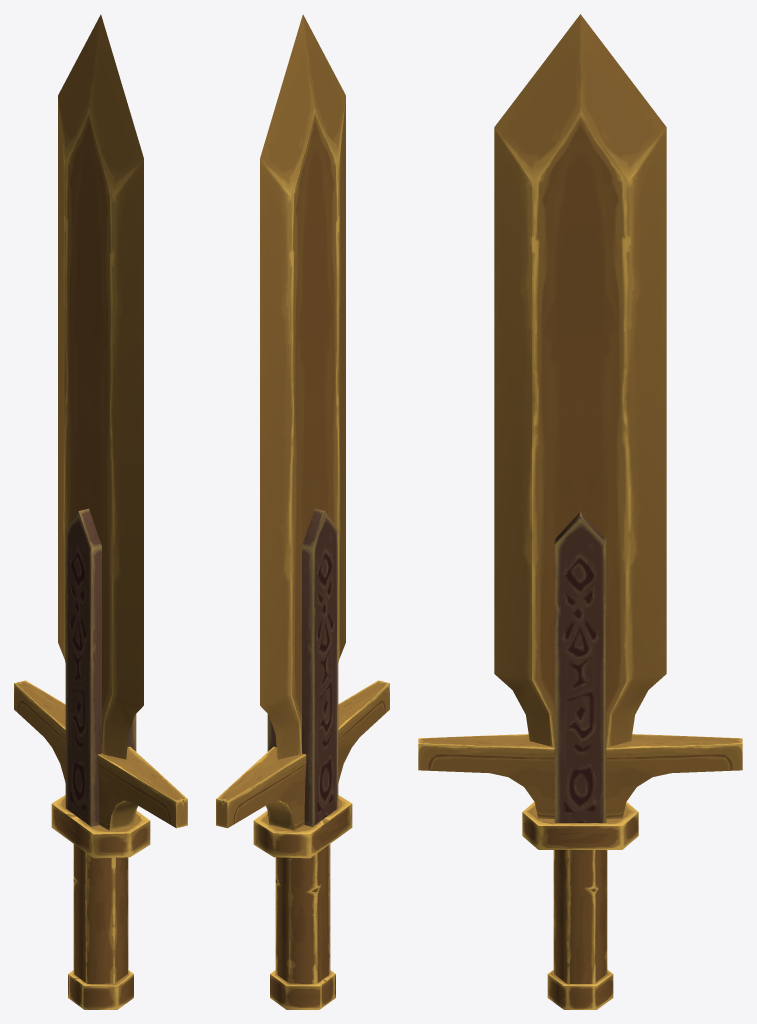
Rendered from SM_WEP_head_spear_battle_01_04.fbx.
The picture shows the model from 3 angles, left to right: view 1: azimuth 30°, elevation 25°; view 2: azimuth 150°, elevation 25°; view 3: azimuth 270°, elevation 25°; orthographic projection.
Parts seen in each view (by area): view 1: SM_WEP_head_spear_battle_01_04; view 2: SM_WEP_head_spear_battle_01_04; view 3: SM_WEP_head_spear_battle_01_04.
Part boxes in pixels (x1,y1,x2,y2): SM_WEP_head_spear_battle_01_04: [14, 14, 187, 1009]; SM_WEP_head_spear_battle_01_04: [216, 14, 389, 1009]; SM_WEP_head_spear_battle_01_04: [418, 14, 742, 1009].
Size of the model in its own units: 7.49 by 124 by 37.14.
